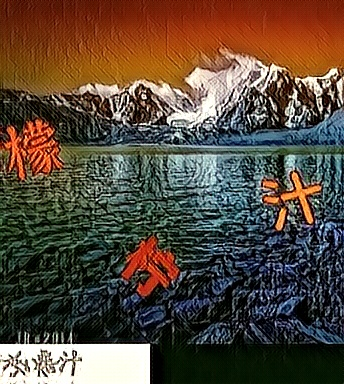C3CA: (4, 117, 67, 183)
C4FB: (118, 232, 181, 298)
D6AD: (260, 167, 323, 233)
